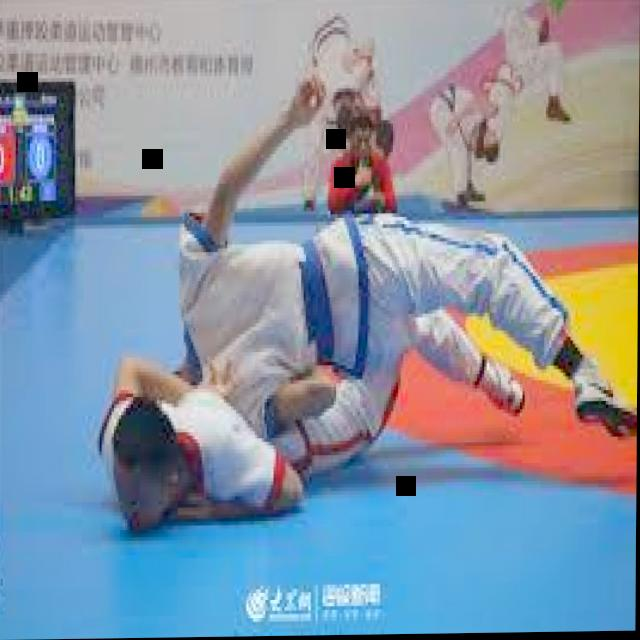Fall-Detected: (111, 176, 639, 495)
